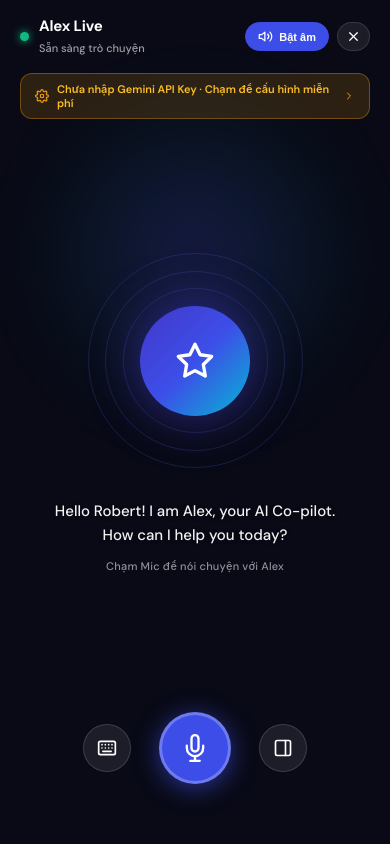
Test: AlexLiveCallOverlay › provides slide-up features drawer to navigate to features and minimize
Open drawer
Click the 2nd button with class "alex-live-call__ctrl-btn" at (283, 748), box x1=259 y1=724 x2=307 y2=772
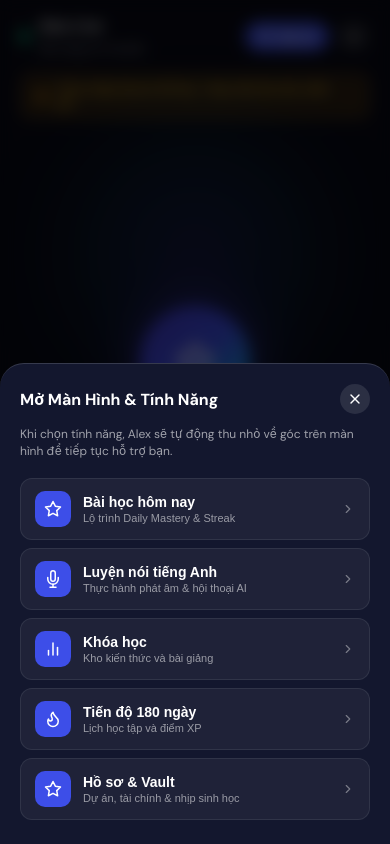
Check: the element with class "alex-live-call__drawer-card" is shown, box x1=0 y1=363 x2=389 y2=843
Check: the text "Bài học hôm nay" is shown, box x1=83 y1=494 x2=195 y2=510
Check: the text "Luyện nói tiếng Anh" is shown, box x1=83 y1=564 x2=217 y2=580
